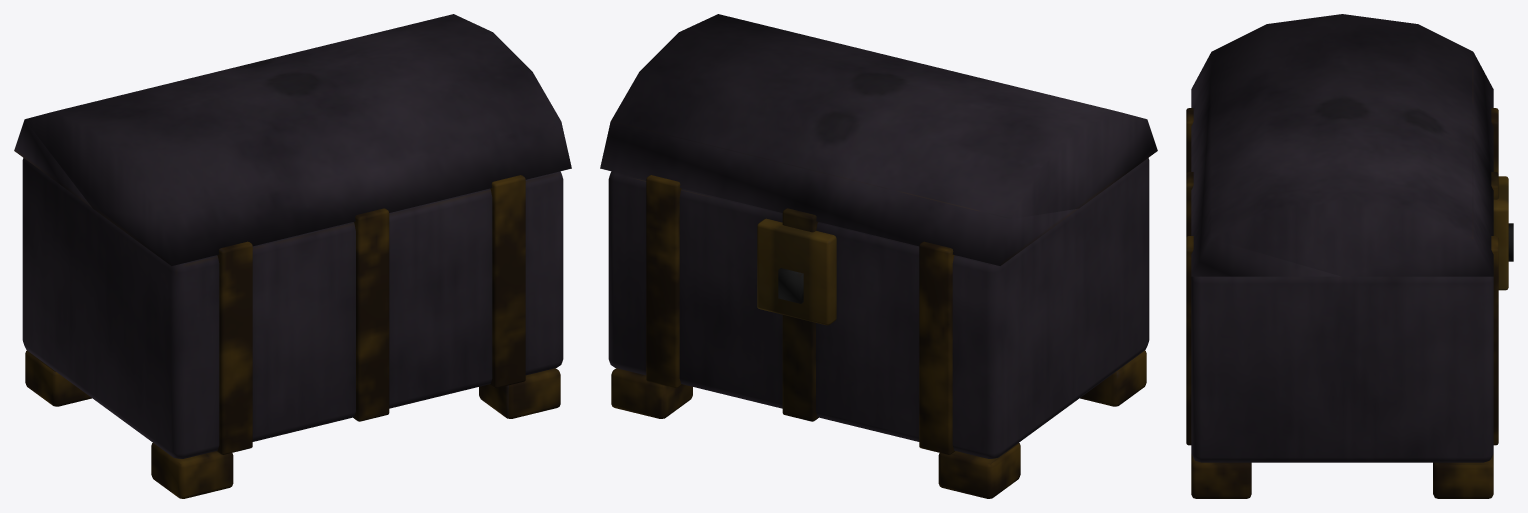
File: eclipse_coffer.obj
3 renders of one model, left to right at view 1: azimuth 30°, elevation 25°; view 2: azimuth 150°, elevation 25°; view 3: azimuth 270°, elevation 25°, orthographic. The views are drawn at different scales.
Visible parts, largest first — view 1: part0, part1; view 2: part0, part1, part2, part3; view 3: part0, part1, part2.
Part boxes in pixels (x1=…): part0: x1=14, y1=14, x2=571, y2=458; part1: x1=25, y1=175, x2=560, y2=498; part0: x1=600, y1=14, x2=1157, y2=458; part1: x1=611, y1=175, x2=1146, y2=498; part2: x1=757, y1=218, x2=836, y2=325; part3: x1=778, y1=268, x2=803, y2=303; part0: x1=1191, y1=14, x2=1493, y2=462; part1: x1=1186, y1=108, x2=1498, y2=498; part2: x1=1493, y1=176, x2=1508, y2=290.
Size of the model in its own units: 0.88 by 0.665 by 0.65.
